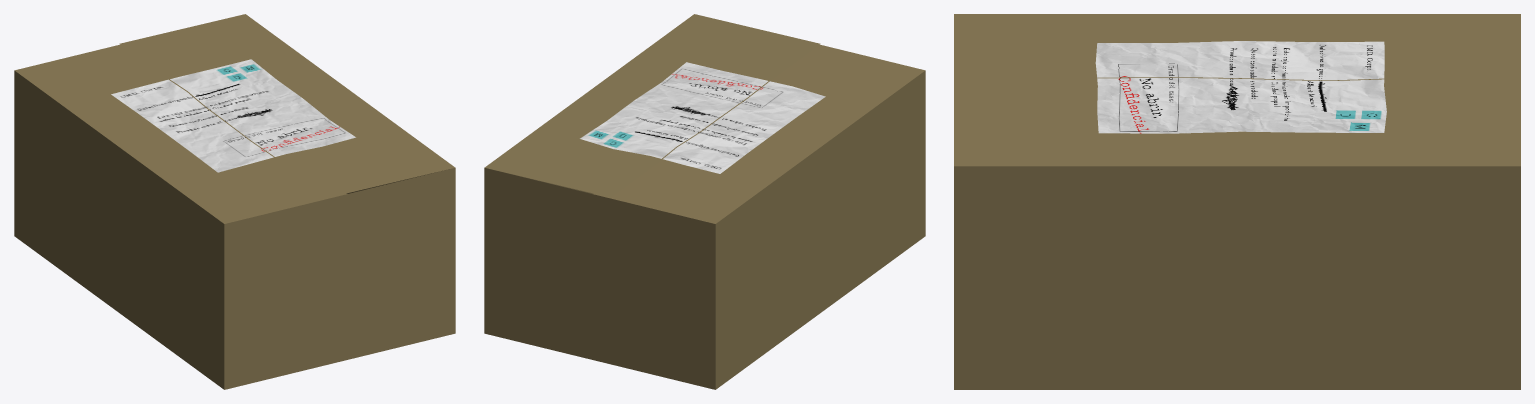
The model's file is Caja sospechosa.fbx.
3 renders of one model, left to right at view 1: azimuth 30°, elevation 25°; view 2: azimuth 150°, elevation 25°; view 3: azimuth 270°, elevation 25°, orthographic. The views are drawn at different scales.
Parts seen in each view (by area): view 1: Cube, Cube.006, Cube.005, Plane, Plane.001; view 2: Cube, Cube.006, Cube.005, Plane, Plane.001; view 3: Cube, Cube.006, Cube.005, Plane, Plane.001.
Boxes of the visible parts, x1,y1,x2,y2 form: Cube: (14,70,455,389); Cube.006: (119,14,454,197); Cube.005: (15,44,346,223); Plane: (170,59,355,156); Plane.001: (111,79,273,172); Cube: (484,70,925,389); Cube.006: (485,14,820,197); Cube.005: (593,44,924,223); Plane: (580,62,768,158); Plane.001: (663,81,825,173); Cube: (954,166,1520,389); Cube.006: (954,81,1520,166); Cube.005: (954,14,1520,81); Plane: (1097,78,1386,133); Plane.001: (1095,41,1384,79).
Bounding box in the file's own units: 200 × 140 × 315.
